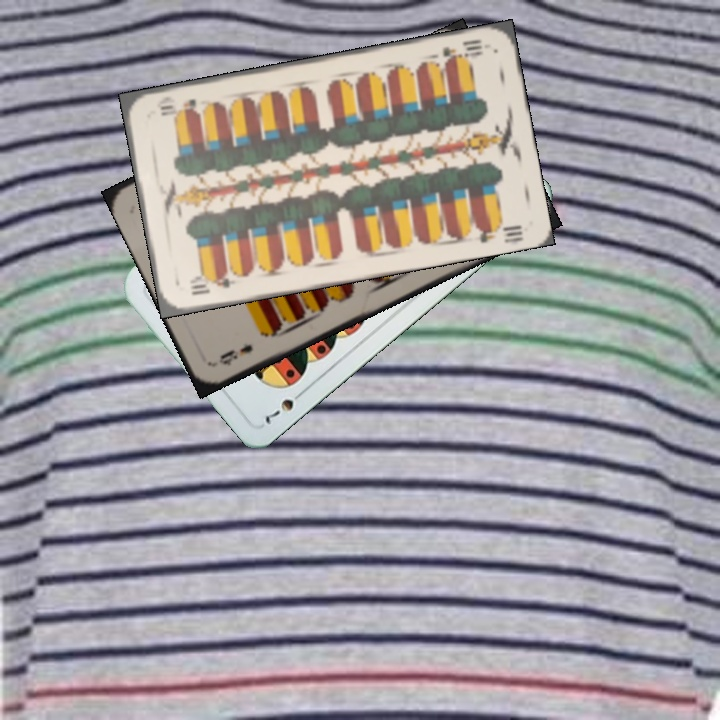E10: (438, 35, 486, 67), (186, 270, 238, 298)
E9: (214, 340, 256, 369)
S7: (261, 385, 309, 428)
